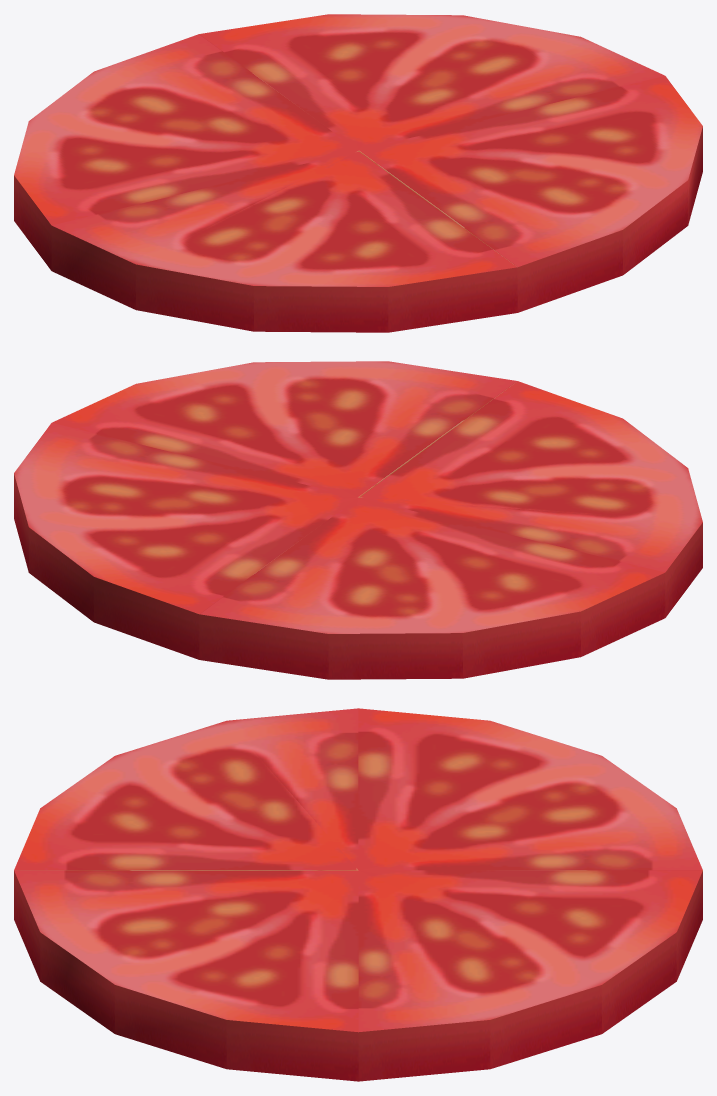
File: tomato.obj
3 renders of one model, top to bottom at view 1: azimuth 30°, elevation 25°; view 2: azimuth 150°, elevation 25°; view 3: azimuth 270°, elevation 25°, orthographic. The views are drawn at different scales.
Parts seen in each view (by area): view 1: hamburger:mesh0031; view 2: hamburger:mesh0031; view 3: hamburger:mesh0031.
Part boxes in pixels (box(x1,y1,x2,y2)): hamburger:mesh0031: box(14, 14, 702, 332); hamburger:mesh0031: box(14, 361, 702, 679); hamburger:mesh0031: box(14, 708, 702, 1081).
Size of the model in its own units: 5.75 by 0.4088 by 5.17.
Materials: 1 (1 with a texture image).
